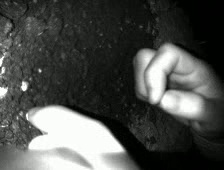corn: (19, 78, 30, 94)
